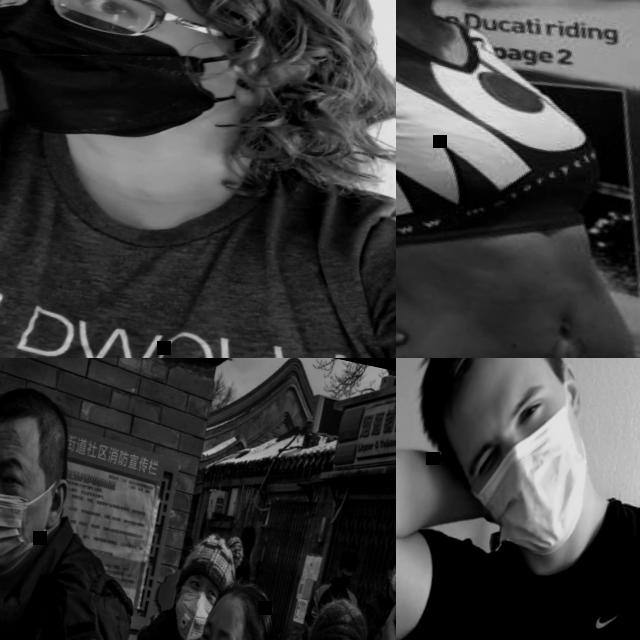Mask: (0, 0, 254, 169), (461, 393, 599, 559), (0, 484, 41, 582), (166, 583, 214, 640), (334, 574, 350, 592), (387, 569, 396, 595)
NO-Hardhat: (407, 358, 530, 445), (0, 378, 76, 454), (203, 577, 281, 640), (178, 526, 244, 588), (304, 594, 374, 640), (339, 544, 362, 570), (240, 522, 259, 541), (180, 534, 193, 548), (391, 542, 396, 562)
NO-Safety Vest: (0, 91, 396, 358), (396, 0, 640, 358), (423, 490, 640, 640), (363, 601, 394, 640), (178, 546, 191, 568), (238, 556, 251, 578)
Person: (0, 0, 396, 358), (396, 0, 640, 358), (396, 358, 640, 640), (0, 385, 177, 640), (65, 517, 245, 640), (228, 525, 261, 587), (178, 530, 194, 568)
